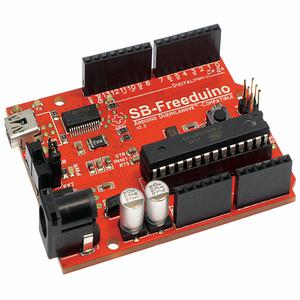duino: (3, 27, 300, 272)
